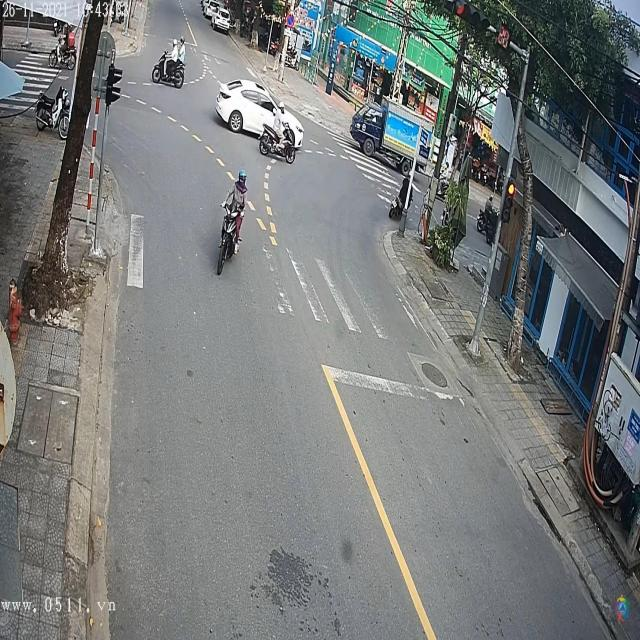car: (214, 79, 285, 138)
motorcycle: (217, 197, 245, 274), (150, 41, 186, 86), (260, 123, 300, 163)
truck: (350, 94, 430, 176)
